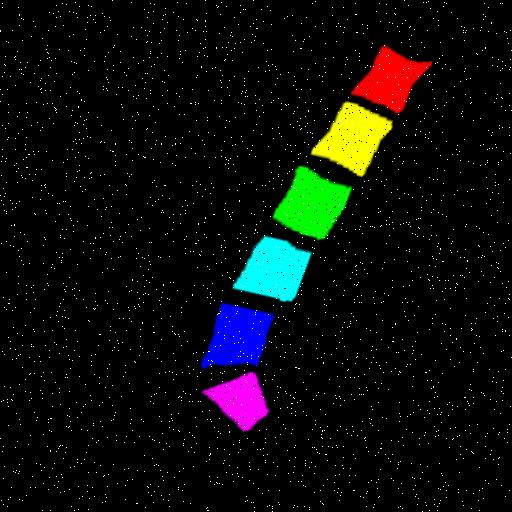L1: (353, 52, 433, 118)
L2: (313, 107, 395, 181)
L3: (275, 170, 355, 244)
L4: (238, 240, 316, 306)
L5: (210, 310, 280, 372)
S1: (209, 376, 277, 435)
